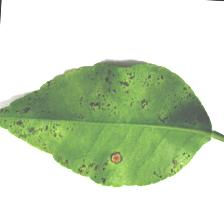canker: (45, 79, 152, 176)
